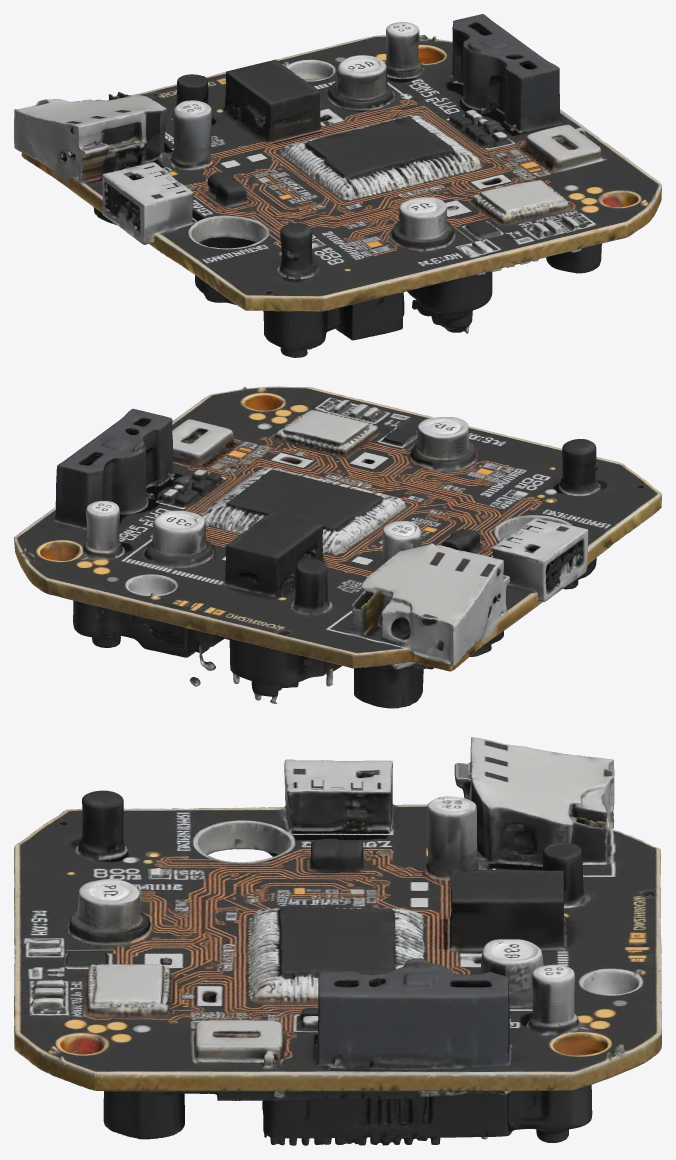
Rendered from FlightController-optimized.glb.
The picture shows the model from 3 angles, top to bottom: view 1: azimuth 30°, elevation 25°; view 2: azimuth 150°, elevation 25°; view 3: azimuth 270°, elevation 25°; orthographic projection. The views are drawn at different scales.
Bounding box in the file's own units: 2 × 0.7235 × 2.
Materials: 1 (1 with a texture image).
